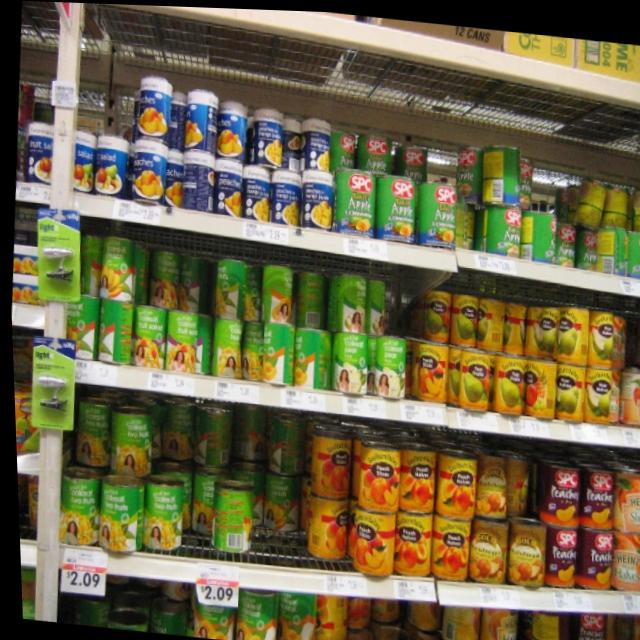q91: (132, 463, 183, 564), (87, 474, 139, 556), (86, 233, 133, 301), (125, 303, 163, 382), (367, 338, 414, 397), (330, 324, 366, 396), (161, 312, 197, 380), (206, 322, 243, 379), (335, 266, 365, 327)
